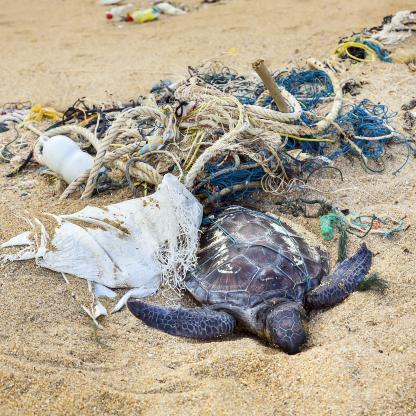Plastic: (41, 136, 94, 186)
